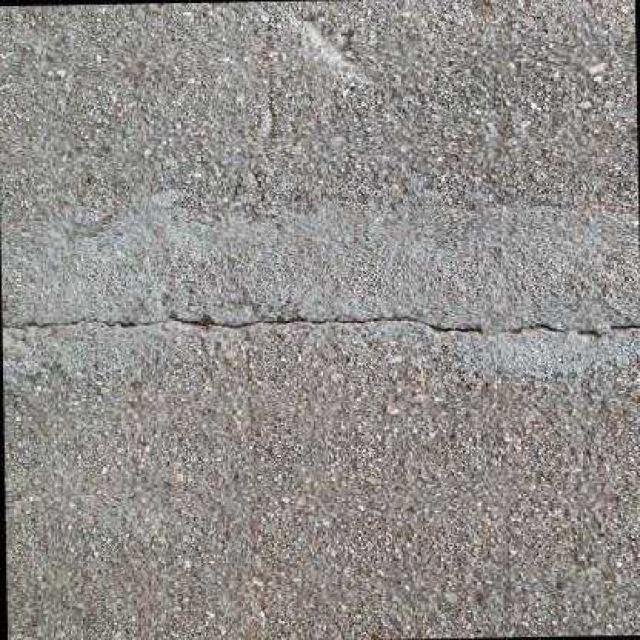D00: (0, 313, 640, 335)
